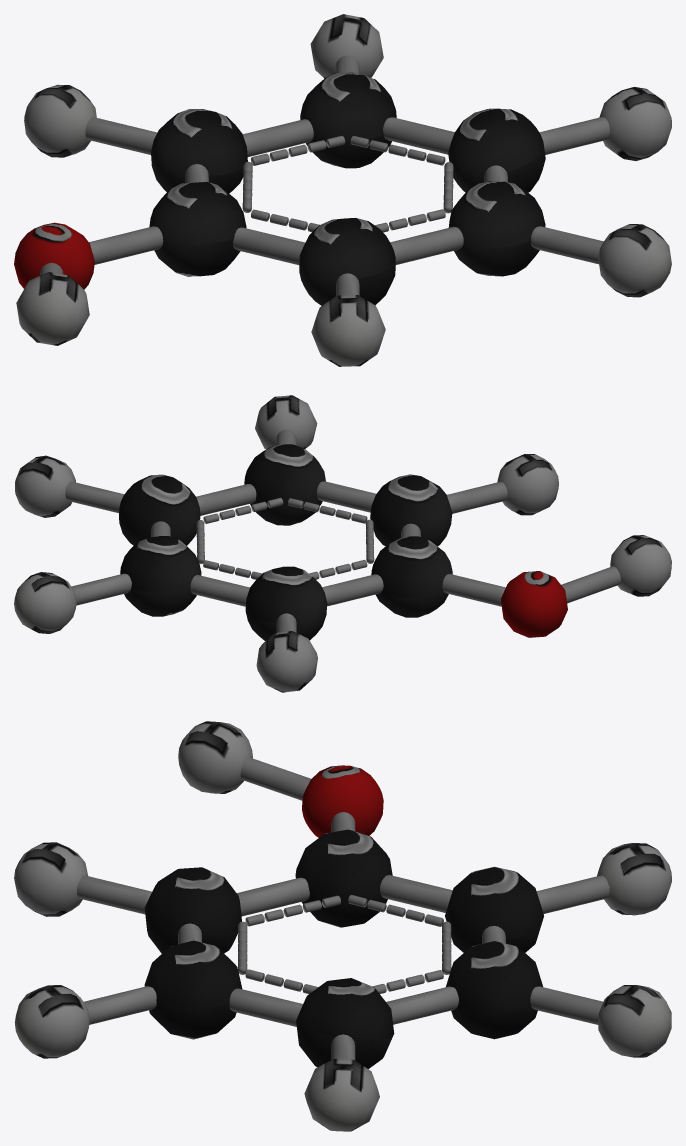
Rendered from Structure.gltf.
3 views of the same model, one above another, from view 1: azimuth 30°, elevation 25°; view 2: azimuth 150°, elevation 25°; view 3: azimuth 270°, elevation 25° (orthographic). The views are drawn at different scales.
Parts seen in each view (by area): view 1: C_Atom_012, C_Atom_010, C_Atom_09, C_Atom_07, C_Atom_011, C_Atom_08, H_Atom_07, H_Atom_012, H_Atom_011, H_Atom_010, dot_Symbol1, H_Atom_017 (+10 smaller); view 2: C_Atom_012, C_Atom_09, C_Atom_010, C_Atom_08, C_Atom_07, C_Atom_011, C_Atom_013, H_Atom_09, H_Atom_010, dot_Symbol1, H_Atom_011, H_Atom_012 (+11 smaller); view 3: C_Atom_010, C_Atom_09, C_Atom_012, C_Atom_011, C_Atom_08, C_Atom_07, H_Atom_07, C_Atom_013, H_Atom_09, H_Atom_017, H_Atom_011, dot_Symbol1 (+11 smaller).
Boxes of the visible parts, x1,y1,x2,y2 form: C_Atom_012: (149, 182, 246, 276); C_Atom_010: (448, 181, 545, 276); C_Atom_09: (300, 72, 396, 168); C_Atom_07: (299, 218, 395, 305); C_Atom_011: (448, 108, 545, 192); C_Atom_08: (151, 109, 247, 193); H_Atom_07: (598, 224, 671, 297); H_Atom_012: (311, 295, 385, 366); H_Atom_011: (16, 272, 89, 345); H_Atom_010: (24, 84, 96, 157); dot_Symbol1: (242, 135, 453, 232); H_Atom_017: (599, 87, 671, 160); C_Atom_012: (371, 536, 452, 617); C_Atom_09: (120, 536, 201, 616); C_Atom_010: (244, 444, 325, 525); C_Atom_08: (245, 566, 327, 641); C_Atom_07: (370, 474, 452, 546); C_Atom_011: (119, 474, 200, 545); C_Atom_013: (500, 571, 567, 637); H_Atom_09: (14, 572, 76, 633); H_Atom_010: (256, 631, 317, 692); dot_Symbol1: (196, 497, 374, 579); H_Atom_011: (610, 535, 671, 596); H_Atom_012: (497, 454, 558, 515); C_Atom_010: (144, 940, 242, 1039); C_Atom_09: (446, 941, 542, 1039); C_Atom_012: (295, 829, 392, 927); C_Atom_011: (296, 978, 394, 1068); C_Atom_08: (445, 866, 543, 952); C_Atom_07: (144, 867, 241, 953); H_Atom_07: (14, 985, 89, 1058); C_Atom_013: (302, 765, 383, 837); H_Atom_09: (598, 985, 671, 1057); H_Atom_017: (304, 1059, 379, 1131); H_Atom_011: (178, 721, 252, 793); dot_Symbol1: (238, 895, 451, 993).
Size of the model in its own units: 1.75 by 0.2253 by 1.39.
4 materials, 4 textured.
